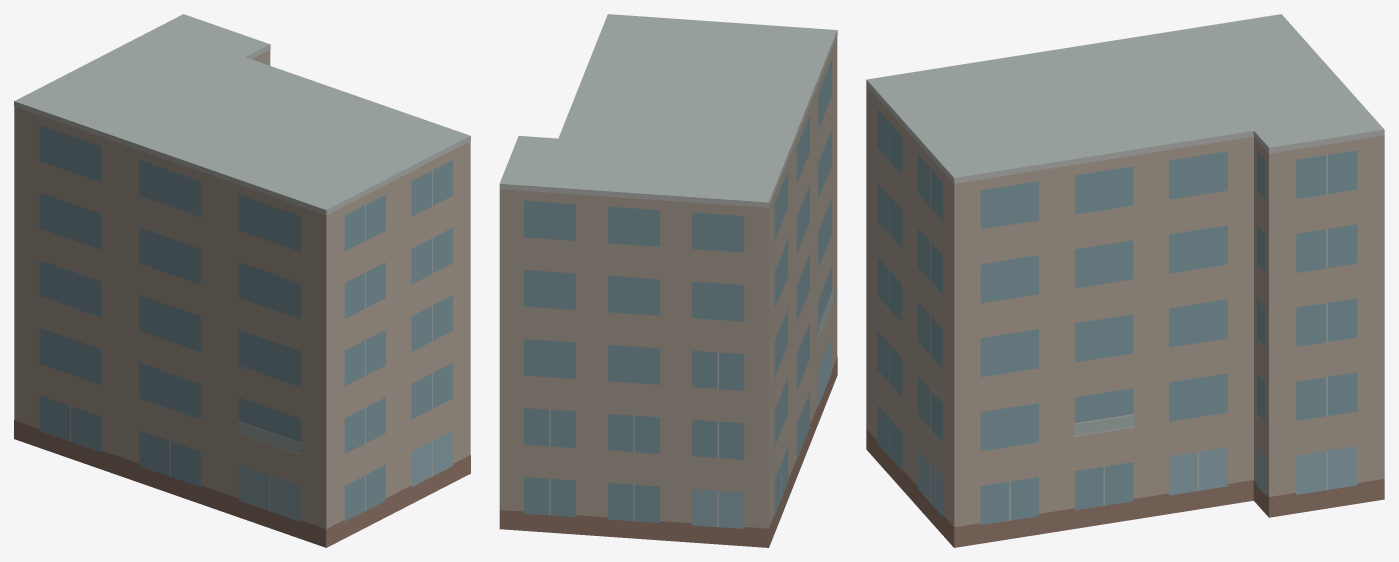
The model's file is survey-upis-32836033.glb.
3 views of the same model, side by side, from view 1: azimuth 30°, elevation 25°; view 2: azimuth 150°, elevation 25°; view 3: azimuth 270°, elevation 25° (orthographic). The views are drawn at different scales.
Parts seen in each view (by area): view 1: survey-upis-32836033.tmp; view 2: survey-upis-32836033.tmp; view 3: survey-upis-32836033.tmp.
Part boxes in pixels (x1,y1,x2,y2): survey-upis-32836033.tmp: (14, 14, 470, 547); survey-upis-32836033.tmp: (499, 14, 837, 547); survey-upis-32836033.tmp: (866, 14, 1384, 547).
Size of the model in its own units: 14.85 by 15.6 by 19.82.
